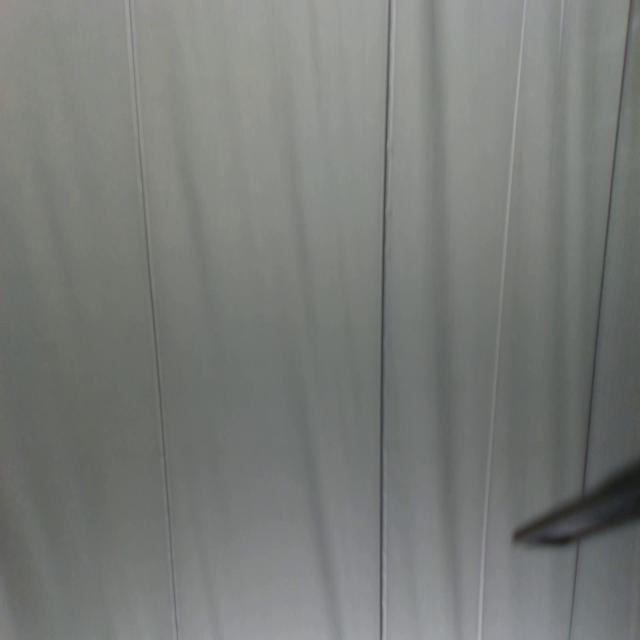crease: (568, 0, 634, 638), (125, 0, 180, 640), (476, 0, 528, 639), (377, 0, 396, 636)
